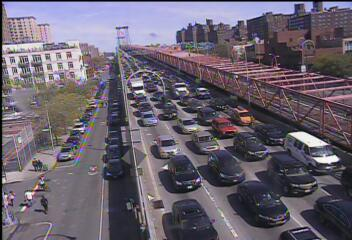neg: (238, 106, 275, 156), (274, 62, 302, 100), (158, 44, 179, 71), (94, 90, 112, 115), (71, 57, 89, 81), (126, 90, 144, 114), (14, 125, 30, 147), (9, 151, 25, 173), (33, 105, 48, 125), (60, 107, 74, 126), (218, 63, 230, 78), (62, 141, 72, 154)
pos: (33, 190, 53, 217), (19, 187, 38, 212), (3, 188, 18, 208), (27, 154, 40, 172), (34, 158, 44, 171)
